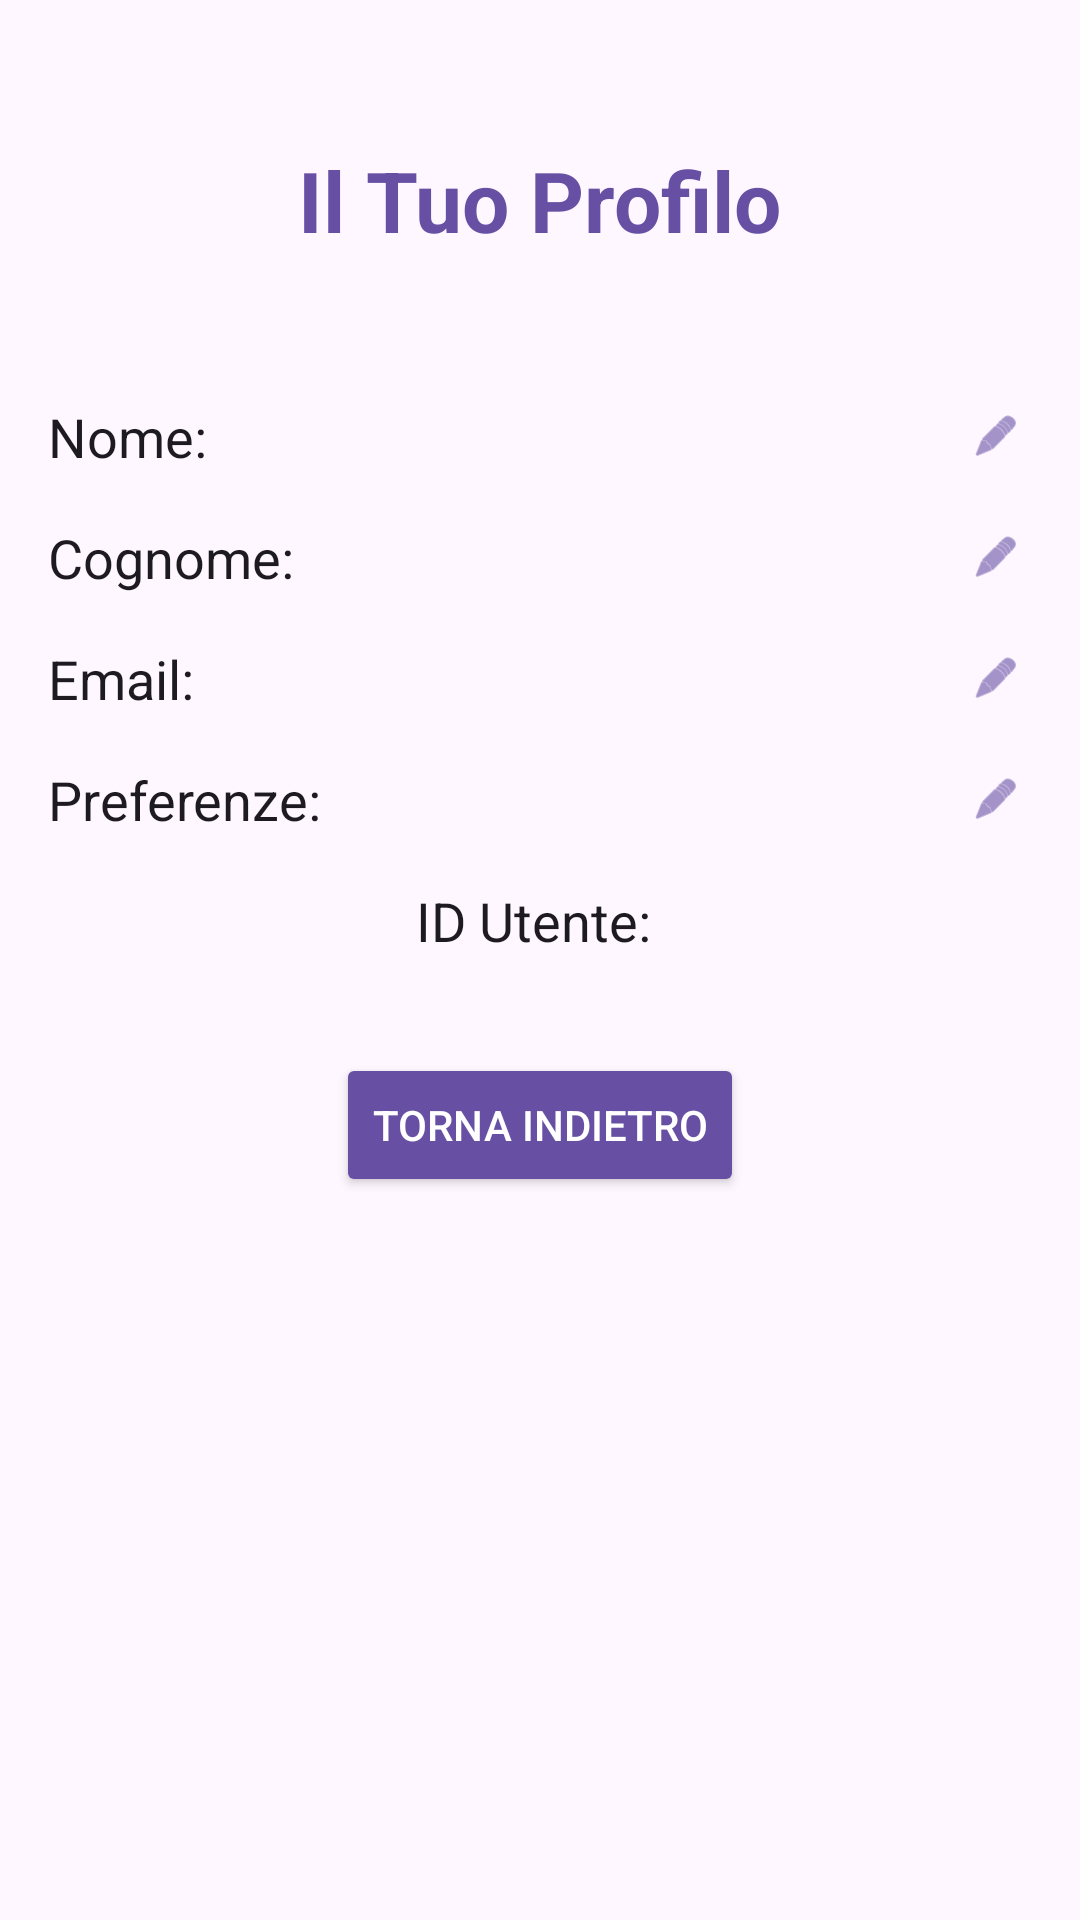

Icons on this 1080px×1920px Android screen, each with its box as (left=x1, top=y1, right=x2, bottom=y2):
edit: (left=976, top=415, right=1016, bottom=456), (left=976, top=536, right=1016, bottom=577), (left=976, top=657, right=1016, bottom=698), (left=976, top=778, right=1016, bottom=819)
